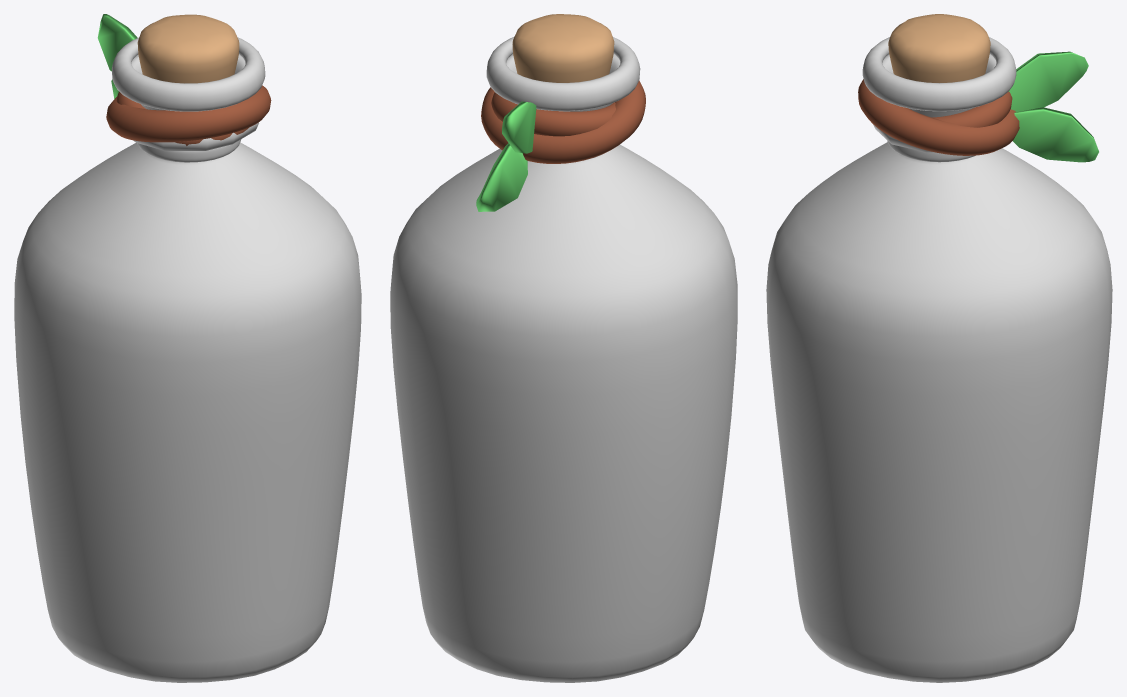
The model's file is Botella de manzana.fbx.
3 views of the same model, side by side, from view 1: azimuth 30°, elevation 25°; view 2: azimuth 150°, elevation 25°; view 3: azimuth 270°, elevation 25° (orthographic).
Visible parts, largest first — view 1: GLASS, CORK, Torus.001, Cube.002, Cylinder.001; view 2: GLASS, CORK, Torus.001, Torus, Cube.003, Cube.002; view 3: GLASS, CORK, Torus.001, Cube.003, Cube.002, Torus.
Boxes of the visible parts, x1,y1,x2,y2 form: GLASS: [14, 37, 361, 682]; CORK: [137, 14, 239, 83]; Torus.001: [106, 85, 271, 142]; Cube.002: [97, 14, 137, 71]; Cylinder.001: [133, 122, 258, 150]; GLASS: [390, 37, 737, 682]; CORK: [512, 14, 614, 82]; Torus.001: [481, 80, 645, 163]; Torus: [491, 92, 615, 136]; Cube.003: [476, 143, 527, 211]; Cube.002: [502, 101, 536, 153]; GLASS: [766, 37, 1112, 682]; CORK: [888, 14, 990, 82]; Torus.001: [858, 79, 1019, 155]; Cube.003: [1013, 107, 1098, 162]; Cube.002: [1009, 51, 1088, 112]; Torus: [932, 91, 1012, 127].
Bounding box in the file's own units: 499 × 954 × 496.
